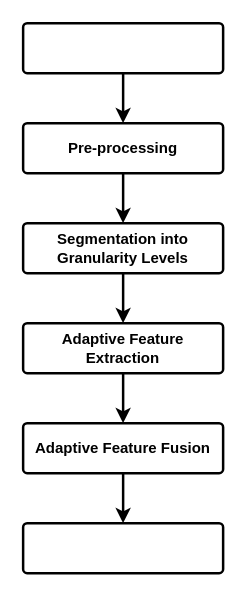
This 245x595 diagram has some shape labels left out. Each missing label, with the centre of its shape:
Classification: the point at 122,547
Input Document Image: the point at 122,47
